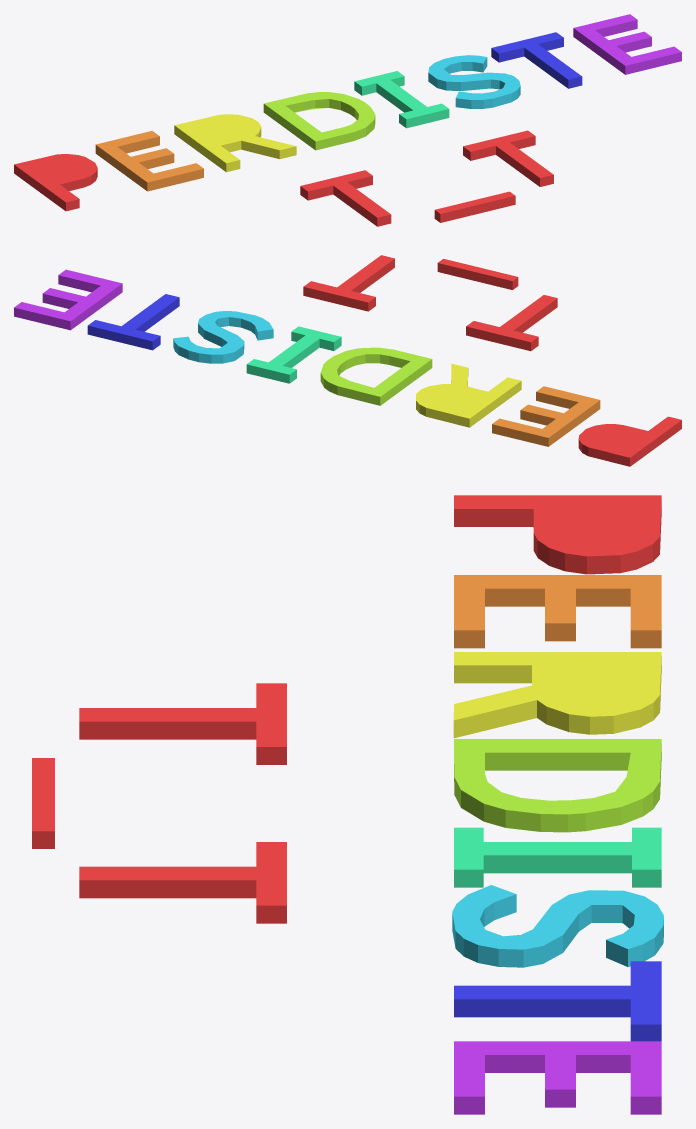
The model's file is perdiste.fbx.
3 renders of one model, top to bottom at view 1: azimuth 30°, elevation 25°; view 2: azimuth 150°, elevation 25°; view 3: azimuth 270°, elevation 25°, orthographic. The views are drawn at different scales.
Visible parts, largest first — view 1: path1406.003, path1406.004, path1406.002, path1406.008, path1406.006, path1406.001, path1406.005, path1406.007, path1406.009, path1406, path1406.010; view 2: path1406.004, path1406.003, path1406.002, path1406.008, path1406.006, path1406.001, path1406.005, path1406.007, path1406.009, path1406, path1406.010; view 3: path1406.003, path1406.004, path1406.001, path1406.006, path1406.008, path1406.002, path1406.007, path1406.005, path1406, path1406.009, path1406.010.
Part boxes in pixels (x1,y1,x2,y2): path1406.003: (174,114,296,172); path1406.004: (263,92,375,150); path1406.002: (95,131,203,191); path1406.008: (573,14,681,74); path1406.006: (428,55,520,108); path1406.001: (14,154,97,211); path1406.005: (354,71,449,128); path1406.007: (491,32,582,88); path1406.009: (300,170,391,226); path1406: (463,130,553,186); path1406.010: (434,191,515,222); path1406.004: (320,347,432,405); path1406.003: (416,363,521,427); path1406.002: (492,386,600,446); path1406.008: (14,269,122,330); path1406.006: (173,311,273,363); path1406.001: (578,416,681,466); path1406.005: (246,326,341,383); path1406.007: (87,294,179,350); path1406.009: (466,295,557,351); path1406: (303,255,394,311); path1406.010: (437,258,518,289); path1406.003: (453,652,661,738); path1406.004: (454,739,661,832); path1406.001: (454,495,661,574); path1406.006: (452,885,663,967); path1406.008: (454,1041,661,1114); path1406.002: (454,575,661,648); path1406.007: (454,961,661,1041); path1406.005: (454,827,661,887); path1406: (79,842,286,923); path1406.009: (79,683,286,764); path1406.010: (32,758,54,848).
Bounding box in the file's own units: 254 × 3.54 × 113.
